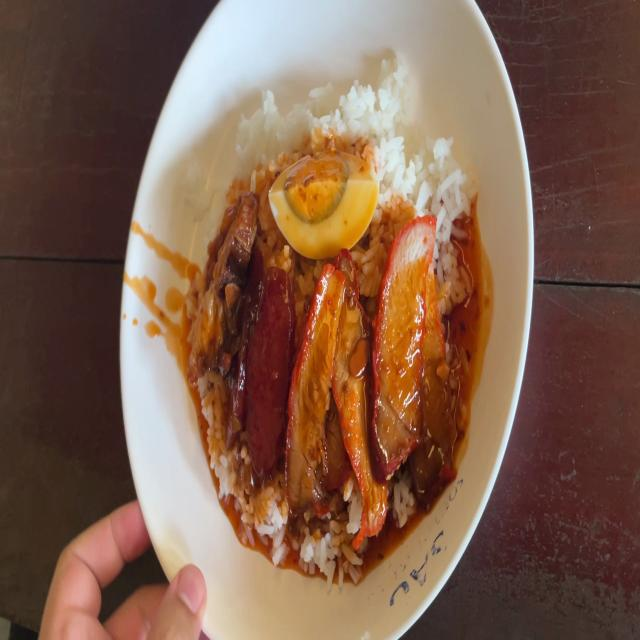red_pork_and_crispy_pork: (277, 156, 377, 240)
stir_fried_basil: (244, 268, 291, 468)
